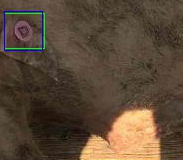text: (4, 13, 44, 48)
